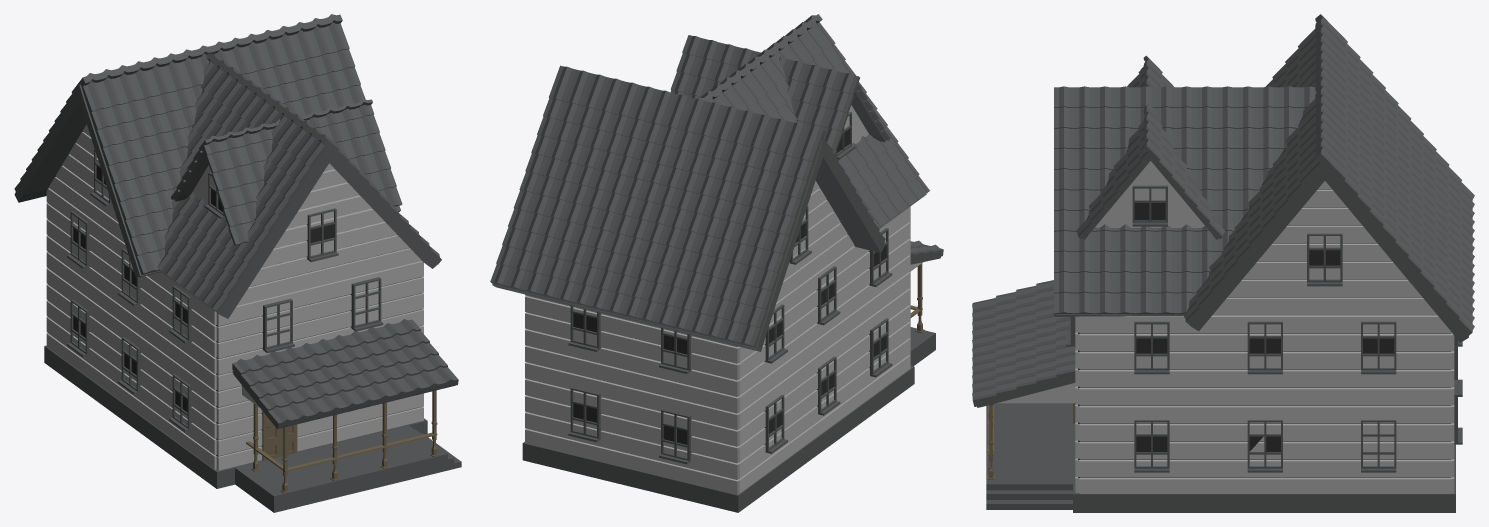
Rendered from ruin_shell1.glb.
3 views of the same model, side by side, from view 1: azimuth 30°, elevation 25°; view 2: azimuth 150°, elevation 25°; view 3: azimuth 270°, elevation 25° (orthographic). The views are drawn at different scales.
Parts seen in each view (by area): view 1: House1; view 2: House1; view 3: House1.
Boxes of the visible parts, box(x1,y1,x2,y2) form: House1: box(14, 14, 461, 512); House1: box(490, 14, 943, 512); House1: box(972, 14, 1474, 512).
Bounding box in the file's own units: 2.56 × 3.18 × 3.87.
